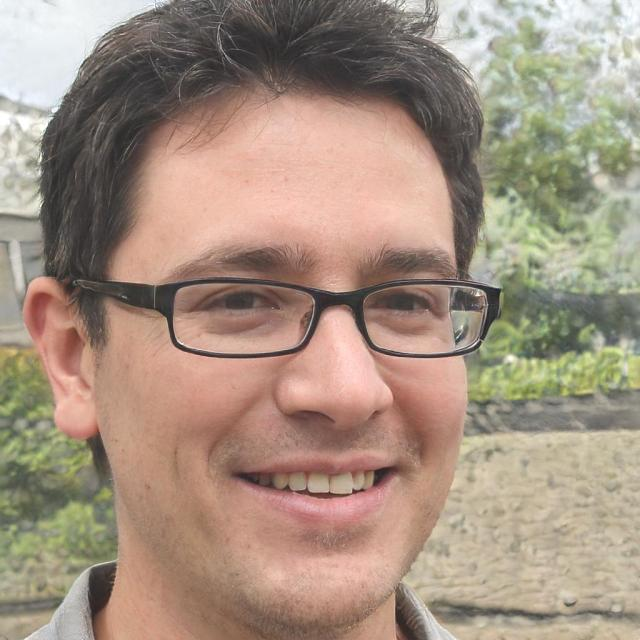lens: (173, 284, 314, 354), (364, 284, 488, 354)
